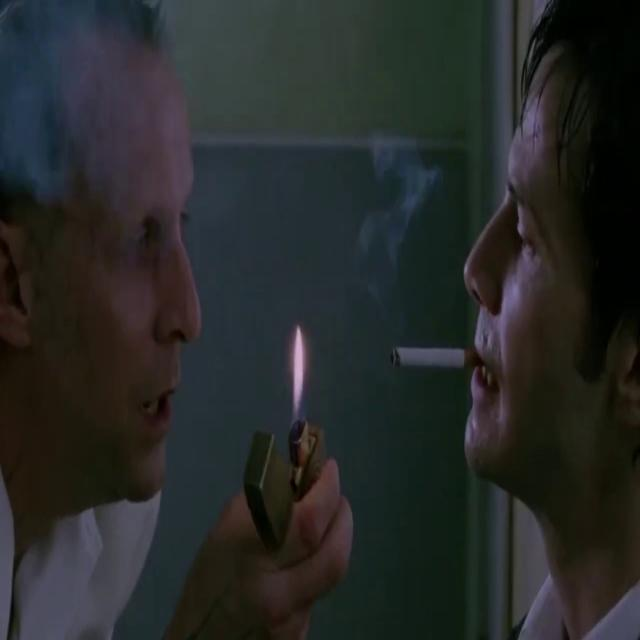Smooking: (379, 328, 490, 388)
